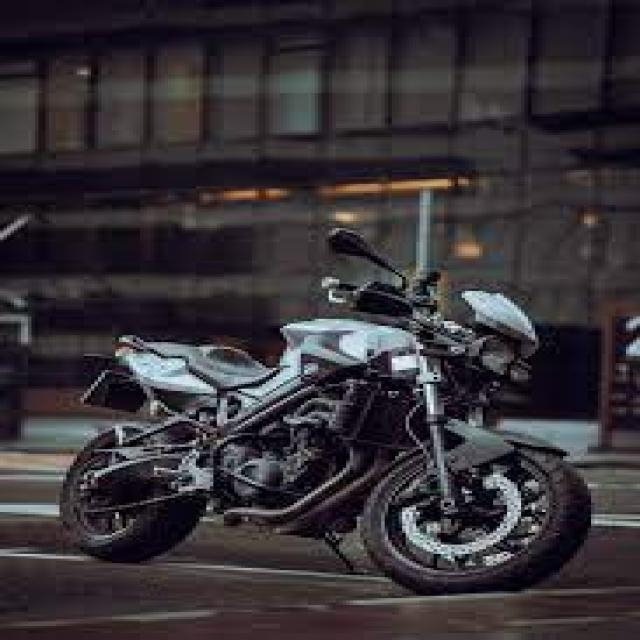Bike: (58, 230, 594, 600)
